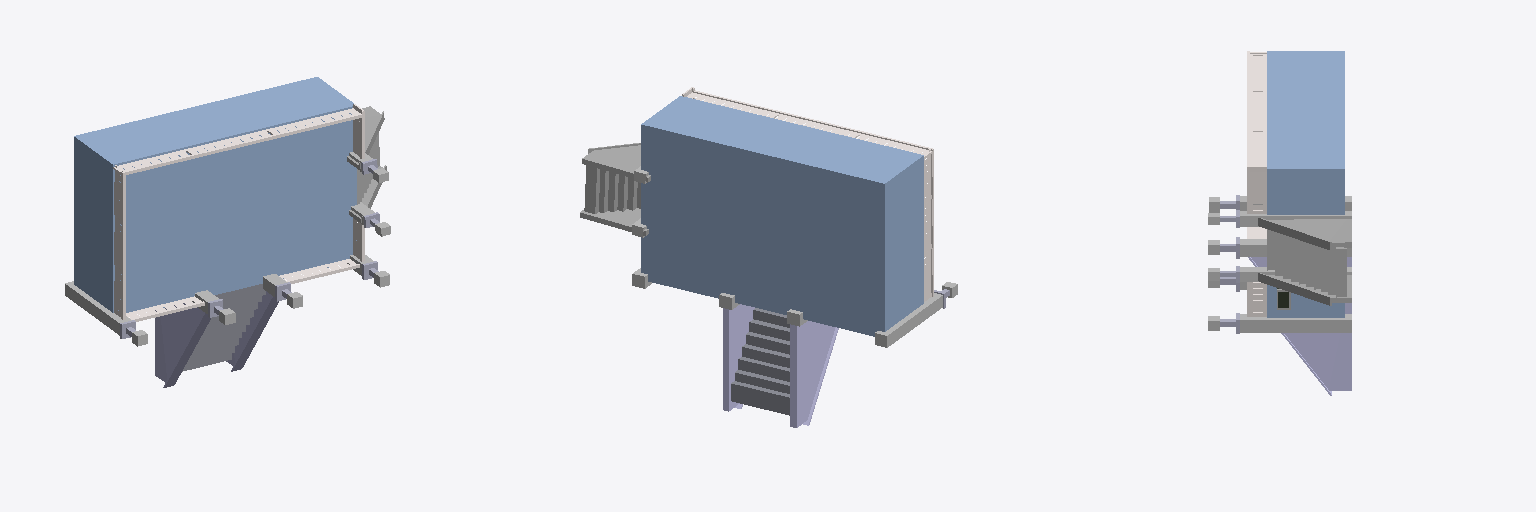
3 renders of one model, left to right at view 1: azimuth 30°, elevation 25°; view 2: azimuth 150°, elevation 25°; view 3: azimuth 270°, elevation 25°, orthographic.
Visible parts, largest first — view 1: pCube11_lambert31, pCube11_lambert25, pCube11_lambert27, pCube11_lambert16, pCube11_lambert33, pCube11_blinn1, pCube11_lambert18; view 2: pCube11_lambert31, pCube11_lambert27, pCube11_lambert33, pCube11_blinn1, pCube11_lambert25, pCube11_lambert16; view 3: pCube11_lambert31, pCube11_blinn1, pCube11_lambert16, pCube11_lambert25, pCube11_lambert27, pCube11_lambert19.
Boxes of the visible parts, box(x1,y1,x2,y2) form: pCube11_lambert31: box(74, 77, 356, 312); pCube11_lambert25: box(113, 104, 364, 321); pCube11_lambert27: box(155, 291, 278, 387); pCube11_lambert16: box(65, 152, 390, 346); pCube11_lambert33: box(182, 284, 265, 371); pCube11_blinn1: box(347, 106, 386, 224); pCube11_lambert18: box(120, 159, 379, 338); pCube11_lambert31: box(641, 96, 923, 336); pCube11_lambert27: box(723, 304, 838, 427); pCube11_lambert33: box(731, 308, 789, 415); pCube11_blinn1: box(580, 143, 650, 235); pCube11_lambert25: box(682, 87, 933, 301); pCube11_lambert16: box(632, 166, 957, 347); pCube11_lambert31: box(1267, 51, 1344, 317); pCube11_blinn1: box(1258, 218, 1351, 309); pCube11_lambert16: box(1208, 196, 1351, 332); pCube11_lambert25: box(1247, 51, 1266, 316); pCube11_lambert27: box(1248, 257, 1351, 395); pCube11_lambert19: box(1220, 201, 1235, 326).
Size of the model in its own units: 3.03 by 2.49 by 1.21.
9 materials, 7 textured.